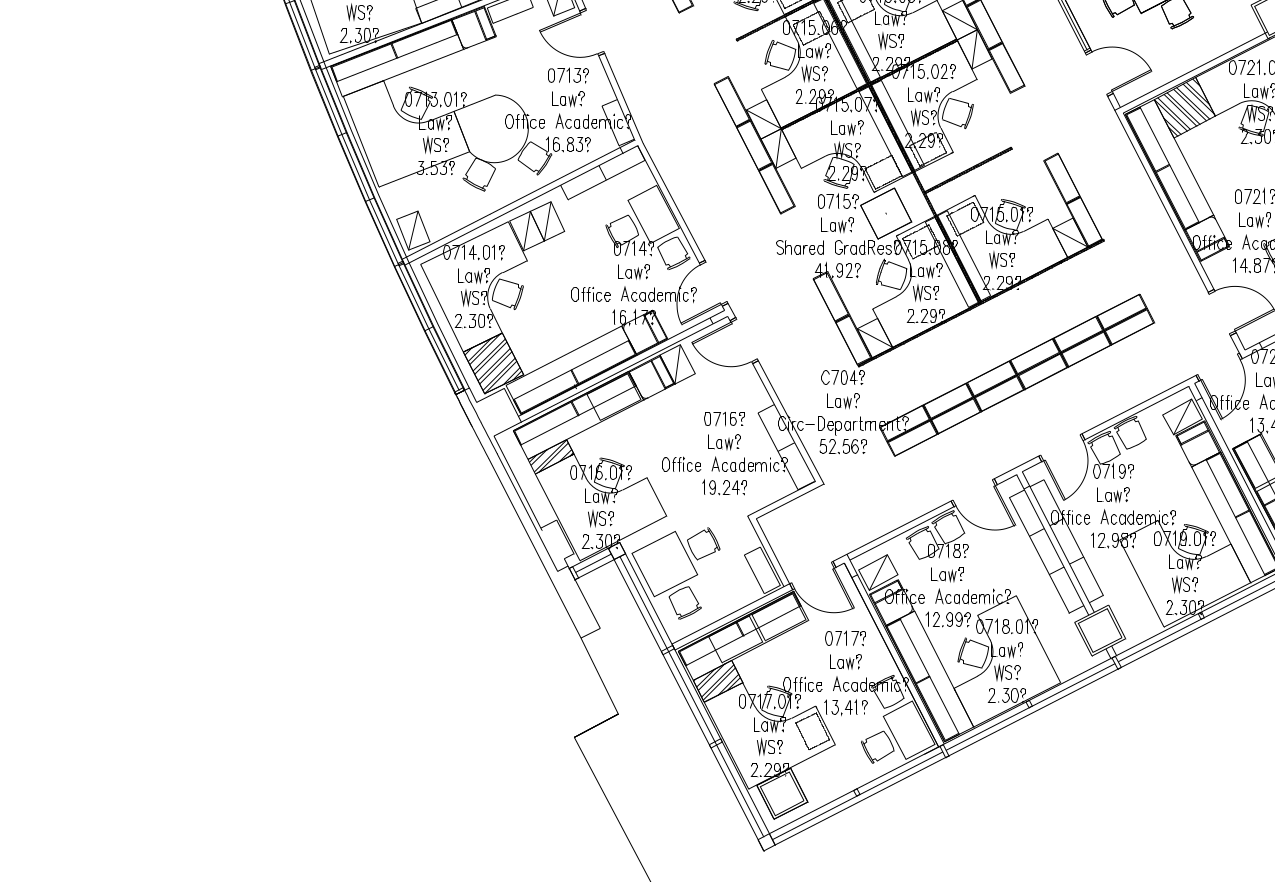door: (662, 259, 728, 330), (536, 6, 602, 77), (1087, 30, 1155, 94), (1041, 429, 1094, 508), (1215, 272, 1275, 338), (1197, 348, 1251, 419), (690, 317, 759, 371), (792, 568, 857, 624), (956, 483, 1021, 539)
